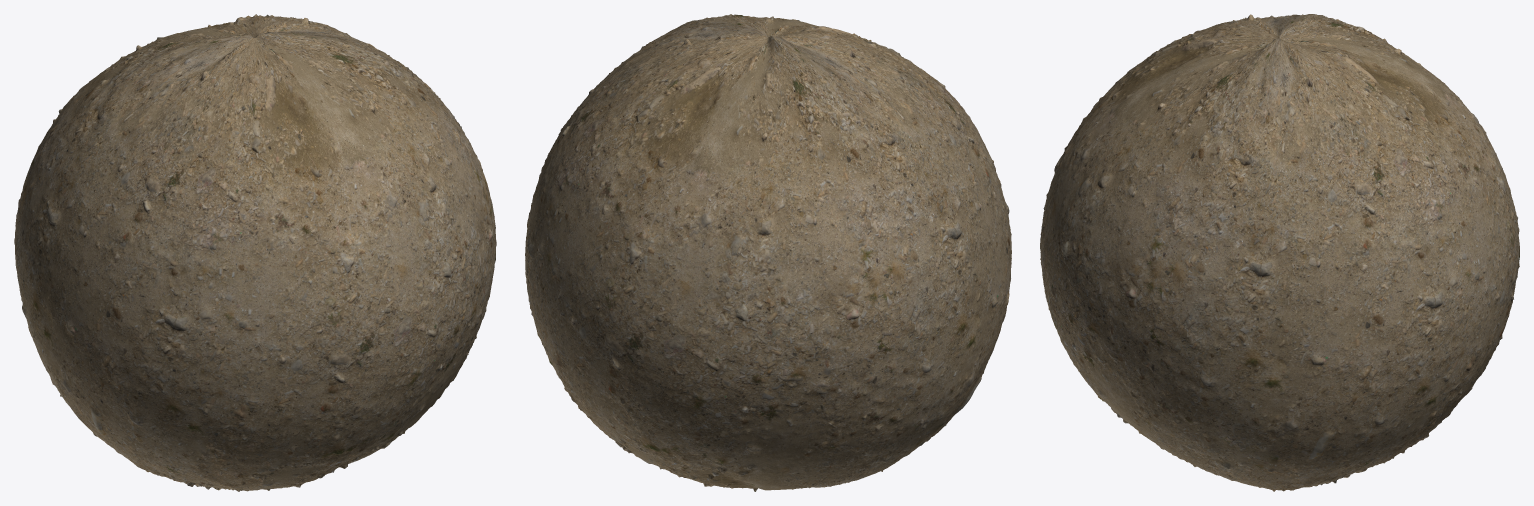
File: coast_sand_01_2k.gltf
3 renders of one model, left to right at view 1: azimuth 30°, elevation 25°; view 2: azimuth 150°, elevation 25°; view 3: azimuth 270°, elevation 25°, orthographic. The views are drawn at different scales.
Parts seen in each view (by area): view 1: sphere_gltf; view 2: sphere_gltf; view 3: sphere_gltf.
Part boxes in pixels (x1,y1,x2,y2): sphere_gltf: (14,14,496,491); sphere_gltf: (525,14,1011,491); sphere_gltf: (1040,14,1519,491).
Bounding box in the file's own units: 15.15 × 15.25 × 15.37.
Materials: 1 (1 with a texture image).
